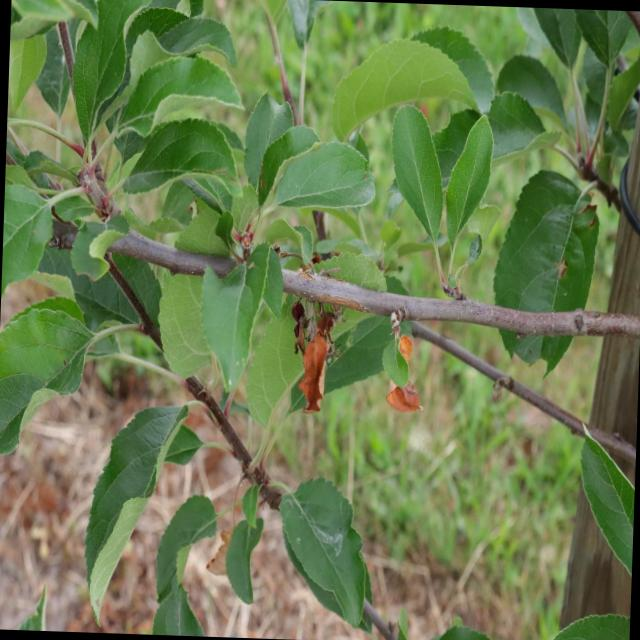-FireBlight-: (285, 302, 341, 418), (378, 329, 435, 422)
